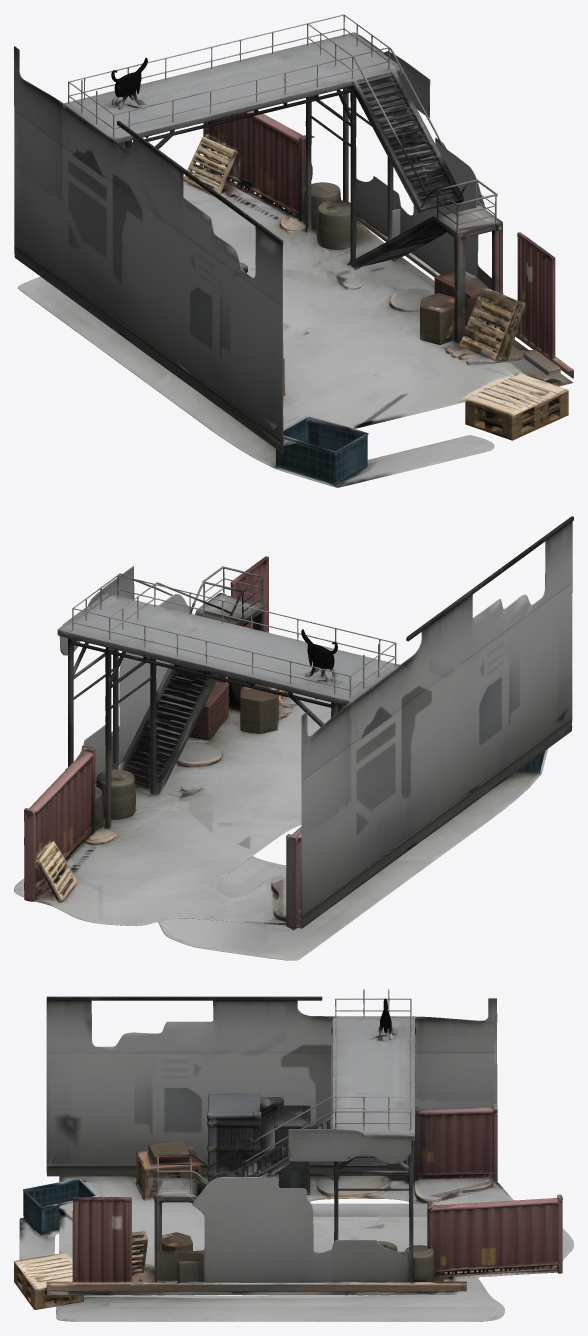
Rendered from yard-visual.glb.
The picture shows the model from 3 angles, top to bottom: view 1: azimuth 30°, elevation 25°; view 2: azimuth 150°, elevation 25°; view 3: azimuth 270°, elevation 25°; orthographic projection. The views are drawn at different scales.
Visible parts, largest first — view 1: node_0; view 2: node_0; view 3: node_0.
Part boxes in pixels (left/top/right/bottom): node_0: left=14, top=14, right=573, bottom=487; node_0: left=14, top=516, right=573, bottom=960; node_0: left=14, top=989, right=573, bottom=1321.
Size of the model in its own units: 0.541 by 0.4681 by 1.07.
Materials: 1 (1 with a texture image).
